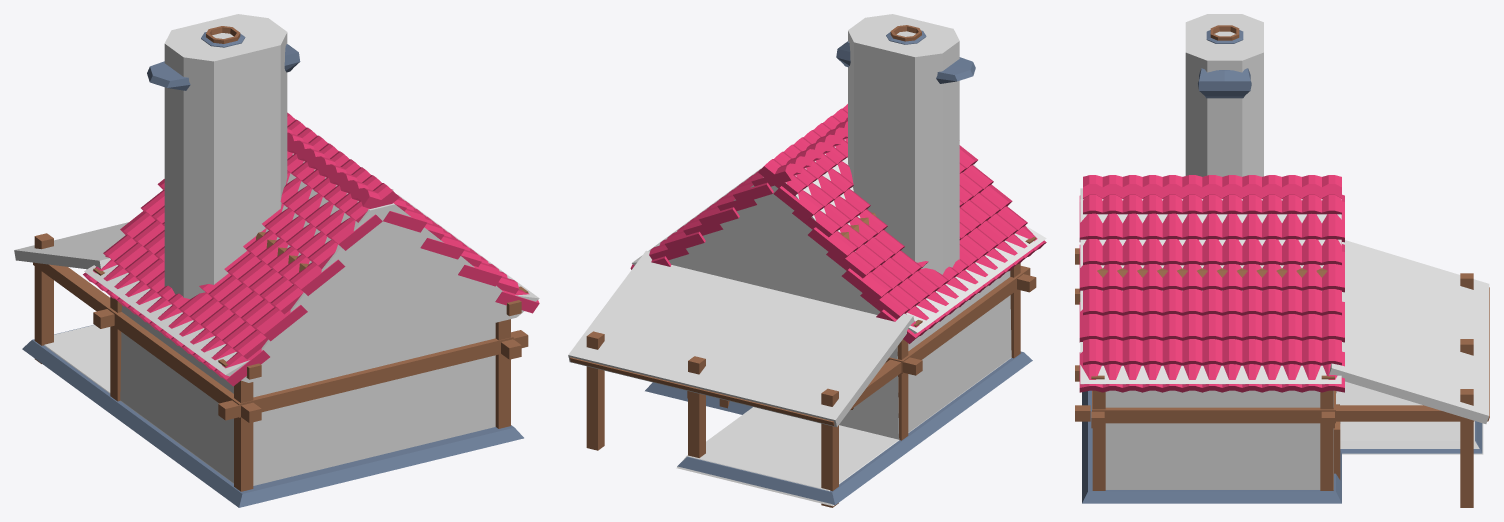
Rendered from Forge build#1.fbx.
The picture shows the model from 3 angles, left to right: view 1: azimuth 30°, elevation 25°; view 2: azimuth 150°, elevation 25°; view 3: azimuth 270°, elevation 25°; orthographic projection. The views are drawn at different scales.
Parts seen in each view (by area): view 1: COLLIDEER, block sepeeeereator.011, GRAPPLE, Cube.001, block sepeeeereator.005; view 2: COLLIDEER, block sepeeeereator.011, GRAPPLE, Cube.001, Plane; view 3: block sepeeeereator.011, COLLIDEER, GRAPPLE, Cube.001, block sepeeeereator.005.
Part boxes in pixels (<box>): COLLIDEER: <box>14,14,539,485</box>; block sepeeeereator.011: <box>22,112,539,507</box>; GRAPPLE: <box>33,232,528,491</box>; Cube.001: <box>147,26,300,90</box>; block sepeeeereator.005: <box>93,268,528,403</box>; COLLIDEER: <box>568,14,1046,506</box>; block sepeeeereator.011: <box>630,104,1046,504</box>; GRAPPLE: <box>586,212,1036,507</box>; Cube.001: <box>836,25,975,83</box>; Plane: <box>570,357,834,425</box>; block sepeeeereator.011: <box>1079,175,1482,503</box>; COLLIDEER: <box>1080,14,1489,489</box>; GRAPPLE: <box>1075,268,1474,507</box>; Cube.001: <box>1198,25,1251,98</box>; block sepeeeereator.005: <box>1075,248,1334,409</box>.
Bounding box in the file's own units: 2370 × 2939 × 2912.
